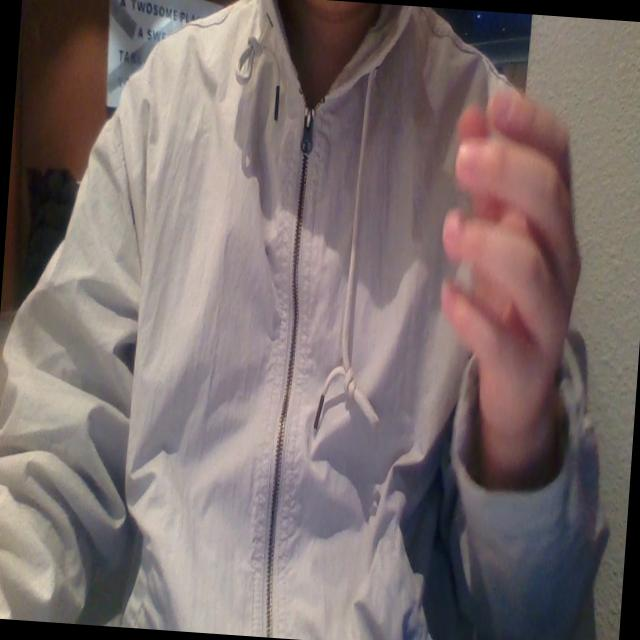hand: (412, 78, 599, 467)
